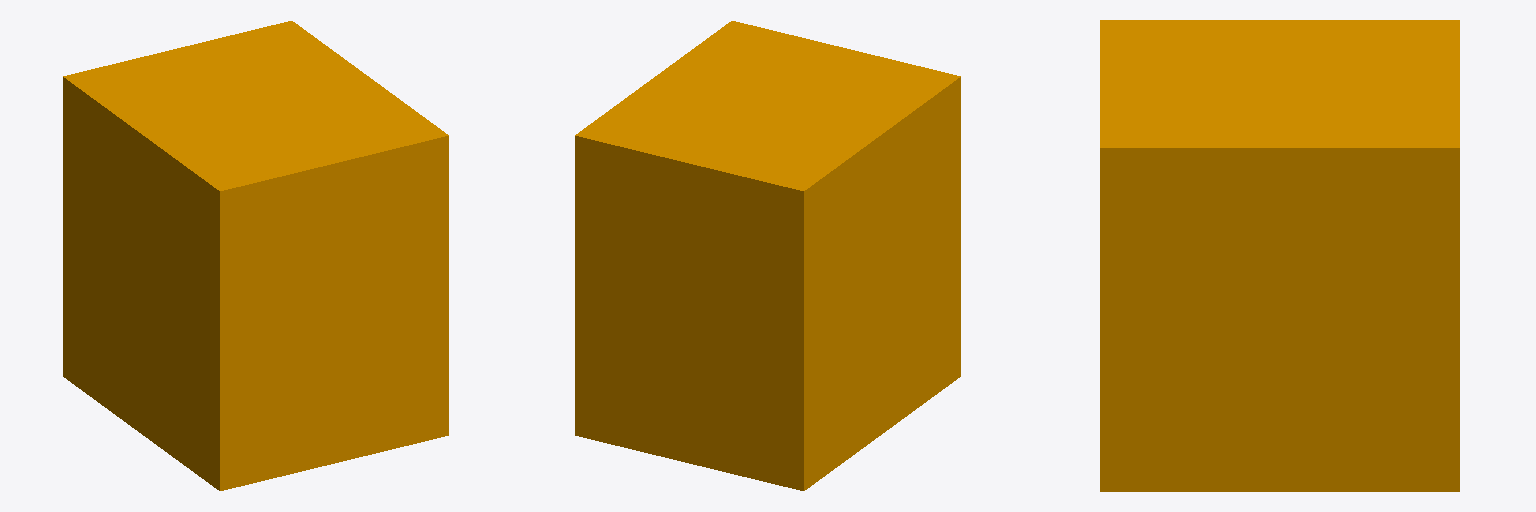
URDF robot description (object):
<robot name="object">
  <link name="object">
    <visual>
      <origin xyz="0 0 0" />
      <geometry>
        <box size="0.064 0.07600000000000001 0.08" />
      </geometry>
    </visual>

    <collision>
      <origin xyz="0 0 0" />
      <geometry>
        <box size="0.064 0.07600000000000001 0.08" />
      </geometry>
    </collision>

    <inertial>
      <mass value="0.05" />
      <inertia ixx="0.0001" ixy="0.0" ixz="0.0" iyy="0.0001" iyz="0.0" izz="0.0001" />
    </inertial>
  </link>
</robot>

--- What the picture shows (computed from the rendered views, not written in the file) ---
Views: 3 orthographic renders of the robot side by side, from view 1: azimuth 30°, elevation 25°; view 2: azimuth 150°, elevation 25°; view 3: azimuth 270°, elevation 25°.
Robot: object — 1 links, 0 joints (none); root link object; default pose: every joint at zero.
Links seen in each view (by area): view 1: object; view 2: object; view 3: object.
Boxes of the visible links, left/top/right/bottom form: object: left=63, top=21, right=448, bottom=490; object: left=575, top=21, right=960, bottom=490; object: left=1100, top=20, right=1459, bottom=491.
Bounding box of the posed robot: 0.064 × 0.076 × 0.08 m (x, y, z).
Geometry: primitives only (box / cylinder / sphere), no mesh files.